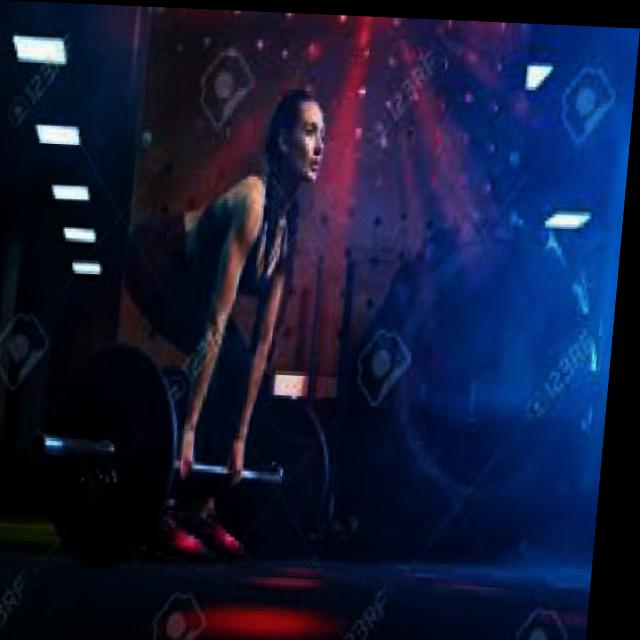barbell: (27, 336, 197, 573)
